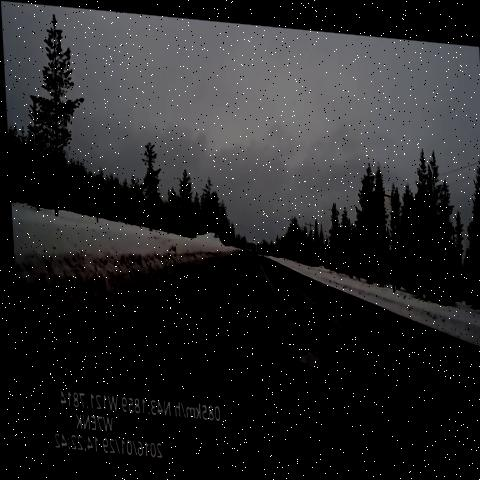pothole: (290, 308, 374, 418), (274, 281, 309, 322)
